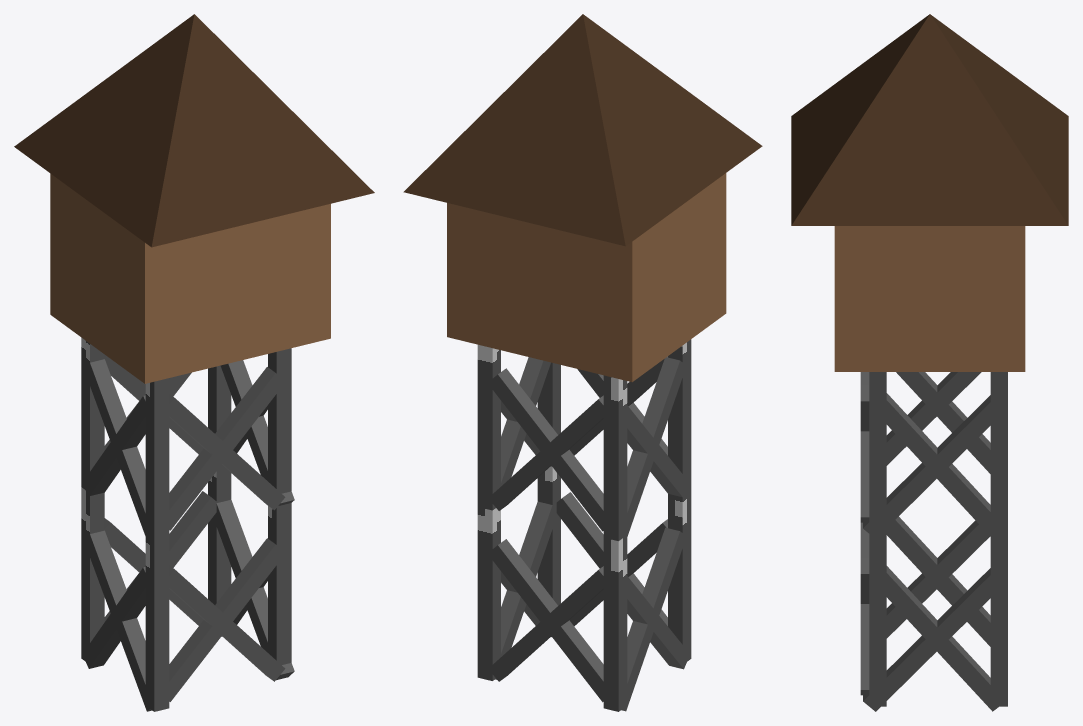
File: Watch Tower.gltf
3 renders of one model, left to right at view 1: azimuth 30°, elevation 25°; view 2: azimuth 150°, elevation 25°; view 3: azimuth 270°, elevation 25°, orthographic.
Visible parts, largest first — view 1: cube (×22), pyramid; view 2: cube (×23), pyramid; view 3: cube (×17), pyramid.
Boxes of the visible parts, box(x1,y1,x2,y2) form: cube (×22): box(50, 173, 330, 711); pyramid: box(14, 14, 374, 247); cube (×23): box(447, 173, 726, 711); pyramid: box(403, 14, 762, 246); cube (×17): box(834, 226, 1025, 711); pyramid: box(791, 14, 1068, 225).
Bounding box in the file's own units: 1.88 × 5.29 × 2.
Materials: 3 (3 with a texture image).
